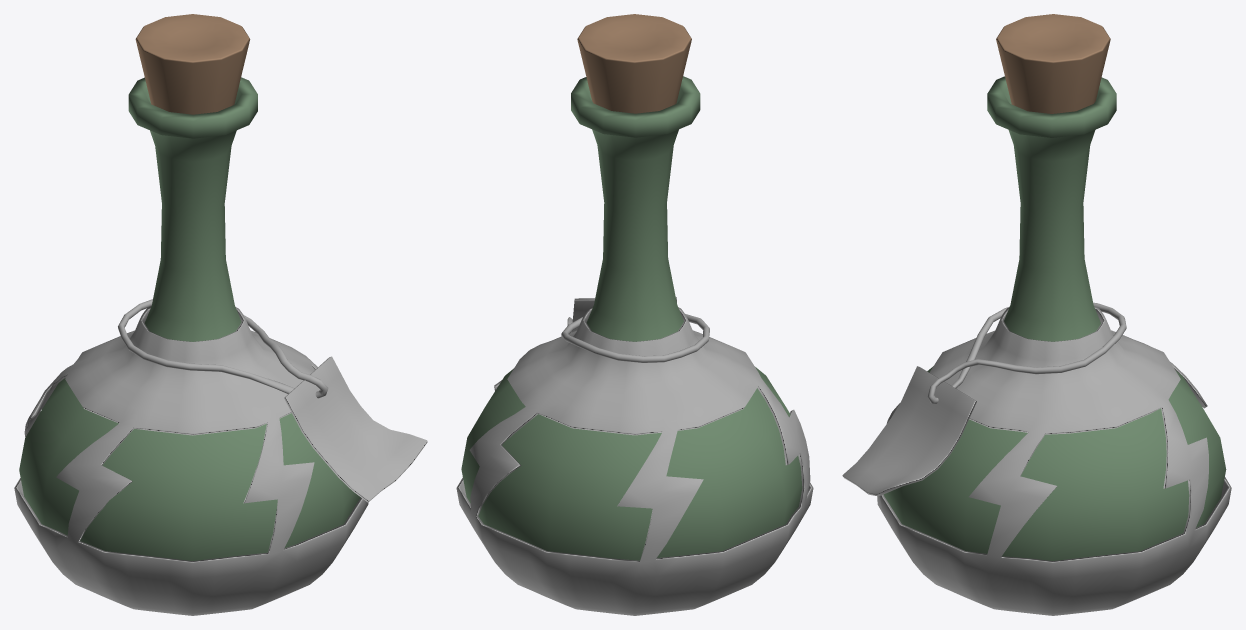
The model's file is energy_pot.fbx.
The picture shows the model from 3 angles, left to right: view 1: azimuth 30°, elevation 25°; view 2: azimuth 150°, elevation 25°; view 3: azimuth 270°, elevation 25°; orthographic projection.
Parts seen in each view (by area): view 1: pSphere9, polySurface53, pCylinder40, pPlane4, pCylinder34; view 2: pSphere9, polySurface53, pCylinder40, pCylinder34; view 3: pSphere9, polySurface53, pCylinder40, pPlane4, pCylinder34.
Boxes of the visible parts, left/top/right/bottom form: pSphere9: left=19, top=77, right=360, bottom=560; polySurface53: left=14, top=306, right=368, bottom=615; pCylinder40: left=135, top=14, right=250, bottom=114; pPlane4: left=284, top=356, right=427, bottom=502; pCylinder34: left=118, top=299, right=328, bottom=398; pSphere9: left=461, top=76, right=802, bottom=560; polySurface53: left=456, top=306, right=813, bottom=615; pCylinder40: left=577, top=14, right=691, bottom=113; pCylinder34: left=561, top=314, right=709, bottom=362; pSphere9: left=883, top=76, right=1226, bottom=560; polySurface53: left=877, top=306, right=1231, bottom=615; pCylinder40: left=996, top=14, right=1110, bottom=113; pPlane4: left=842, top=366, right=976, bottom=496; pCylinder34: left=927, top=302, right=1126, bottom=403.
Size of the model in its own units: 9.96 by 16.55 by 10.87.
